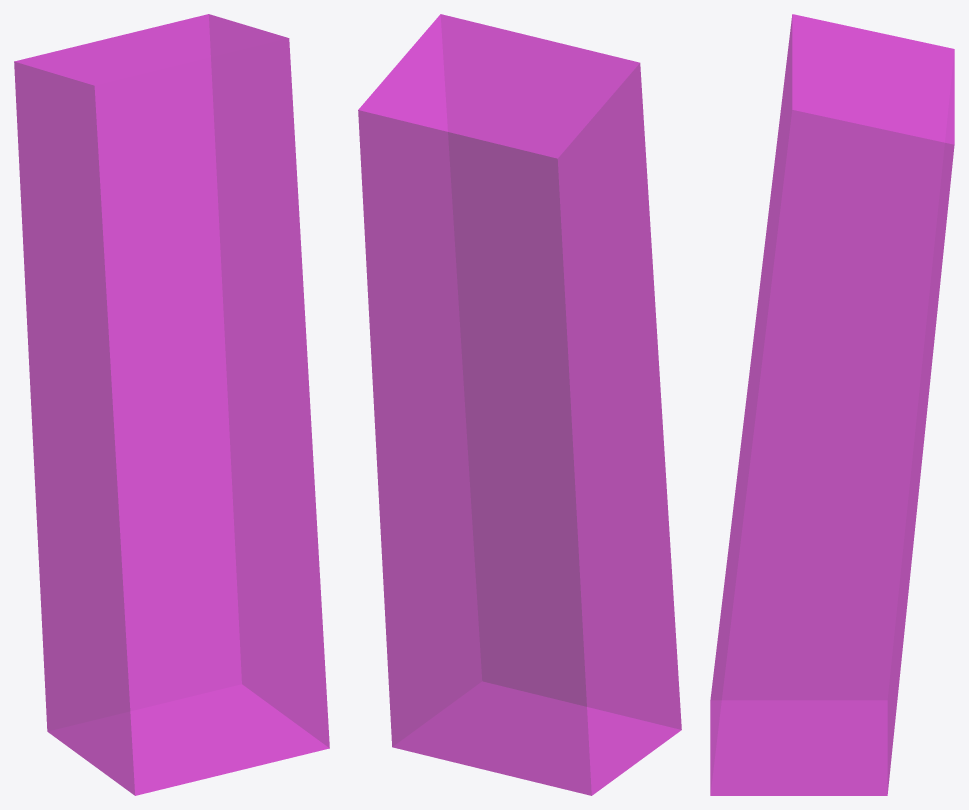
Rendered from SM_Veh_Ship_L_Rudder_01_Collision.fbx.
3 renders of one model, left to right at view 1: azimuth 30°, elevation 25°; view 2: azimuth 150°, elevation 25°; view 3: azimuth 270°, elevation 25°, orthographic. The views are drawn at different scales.
Parts seen in each view (by area): view 1: SM_Veh_Ship_L_Rudder_01_Collision; view 2: SM_Veh_Ship_L_Rudder_01_Collision; view 3: SM_Veh_Ship_L_Rudder_01_Collision.
Part boxes in pixels (x1,y1,x2,y2): SM_Veh_Ship_L_Rudder_01_Collision: (14,14,329,795); SM_Veh_Ship_L_Rudder_01_Collision: (358,14,681,795); SM_Veh_Ship_L_Rudder_01_Collision: (710,14,954,795).
Size of the model in its own units: 80.62 by 269 by 86.85.
